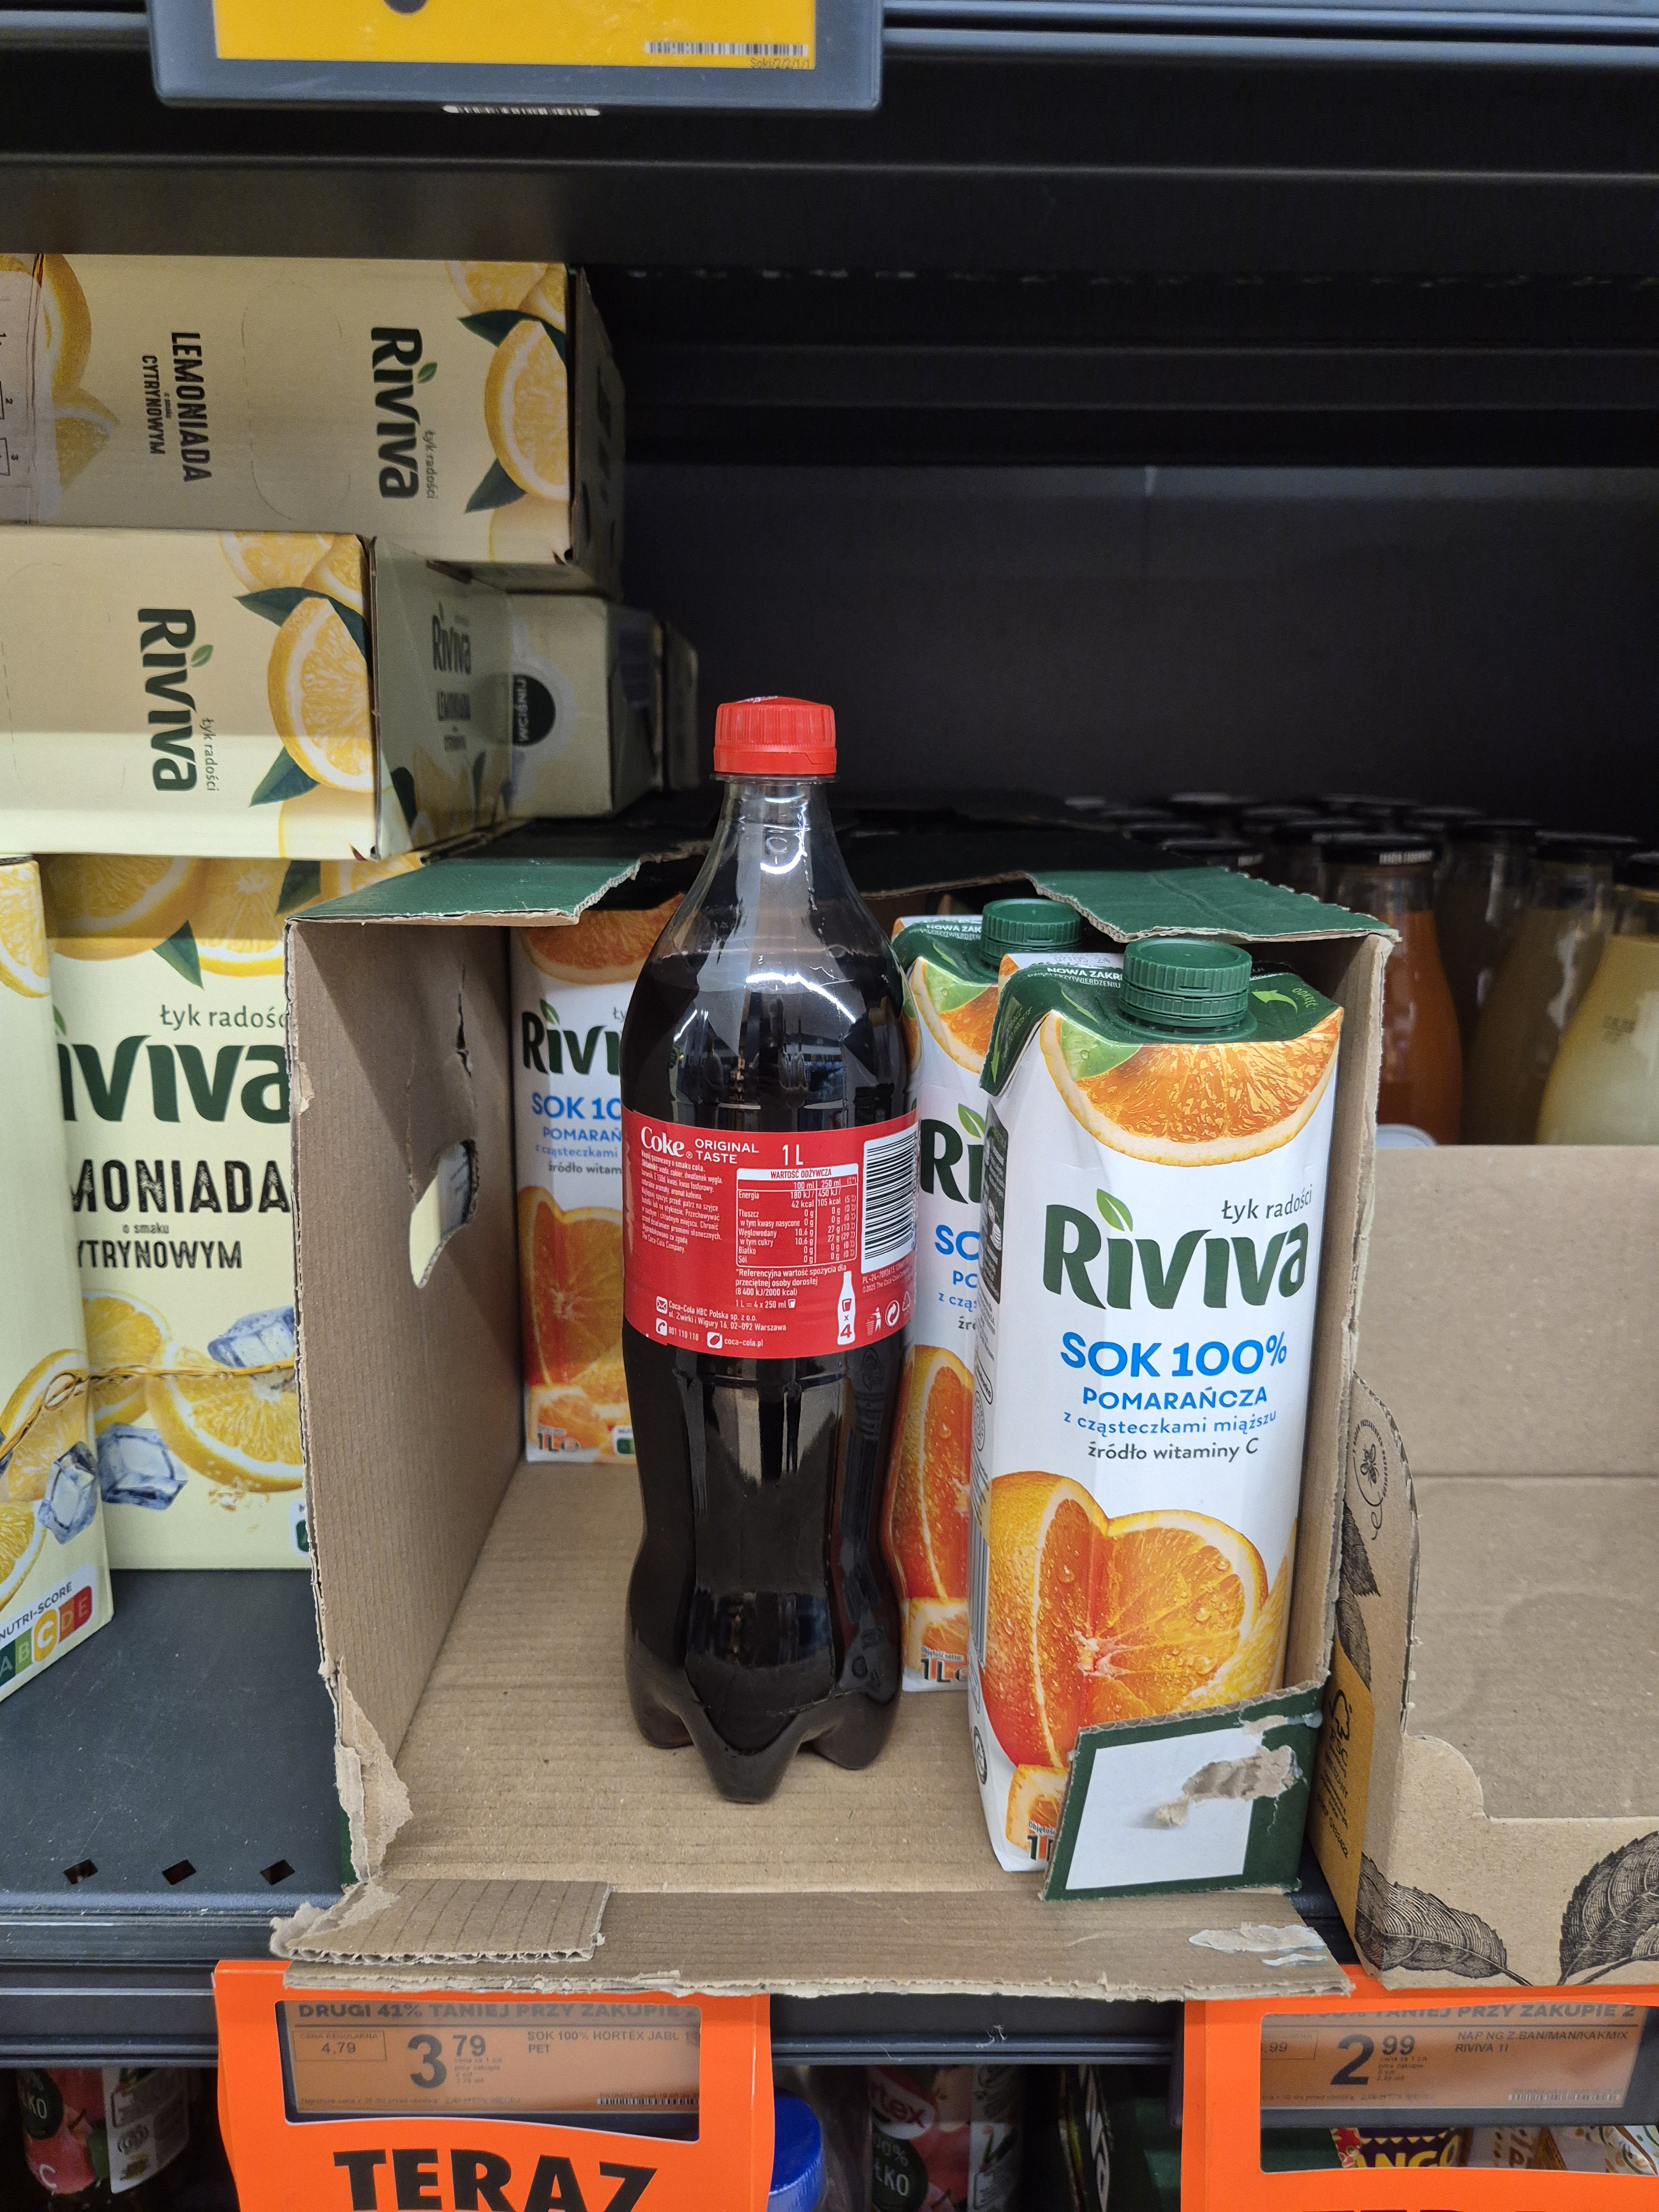Coca Cola: (652, 676, 917, 1796)
